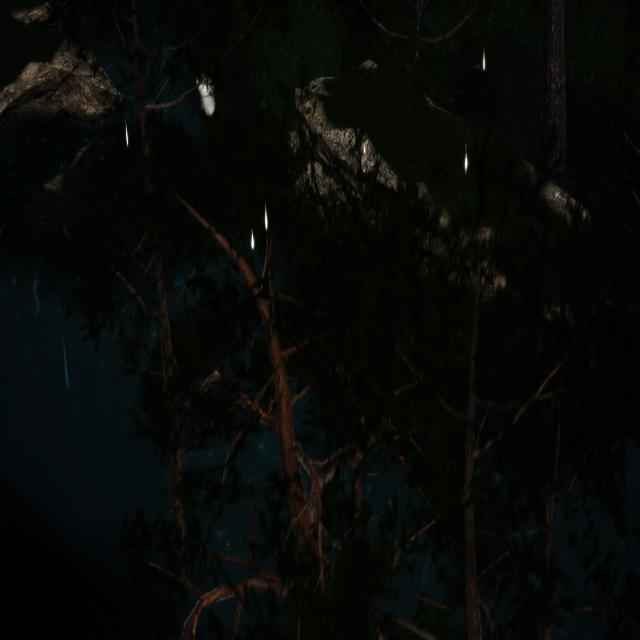Human: (191, 32, 218, 146)
